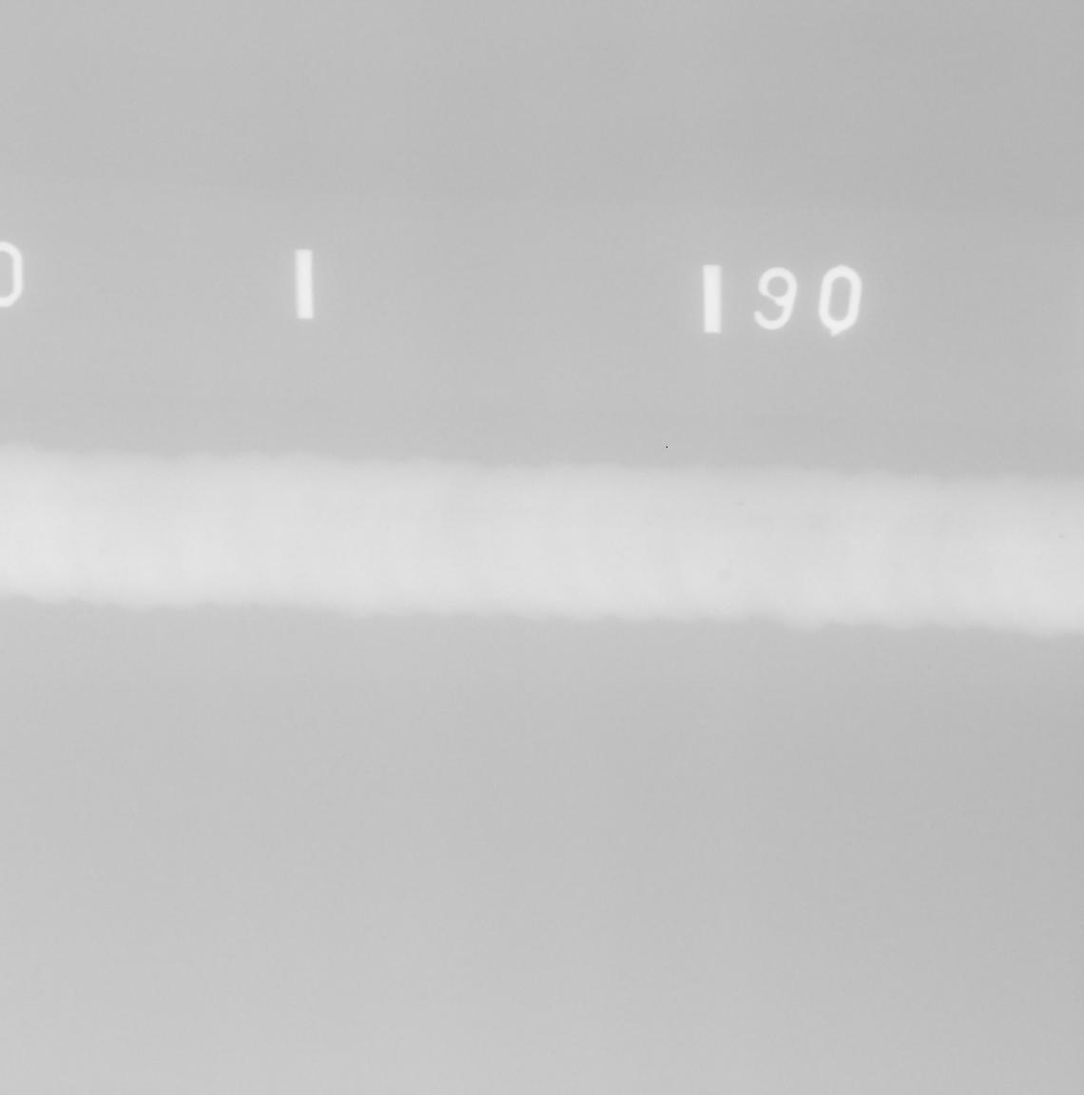Inclusion: (101, 498, 105, 502)
Pore/Porosity: (720, 568, 731, 582), (738, 501, 744, 506), (19, 539, 24, 544), (649, 521, 653, 526), (729, 560, 733, 564), (1059, 535, 1063, 538), (99, 549, 103, 552)
